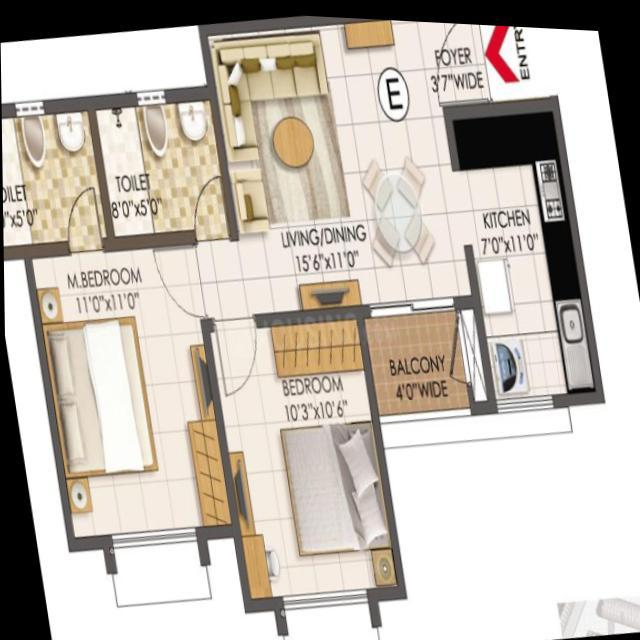Balcony-Sitout: (352, 294, 470, 419)
Bedroom: (197, 299, 405, 611)
Bedroom with Toilet: (1, 94, 235, 539)
Dining: (349, 144, 450, 275)
Enterance-Foyer: (424, 17, 543, 103)
Kitchen: (444, 94, 604, 407)
Living: (196, 12, 362, 318)
Toilet: (83, 85, 236, 249), (1, 93, 114, 255)
